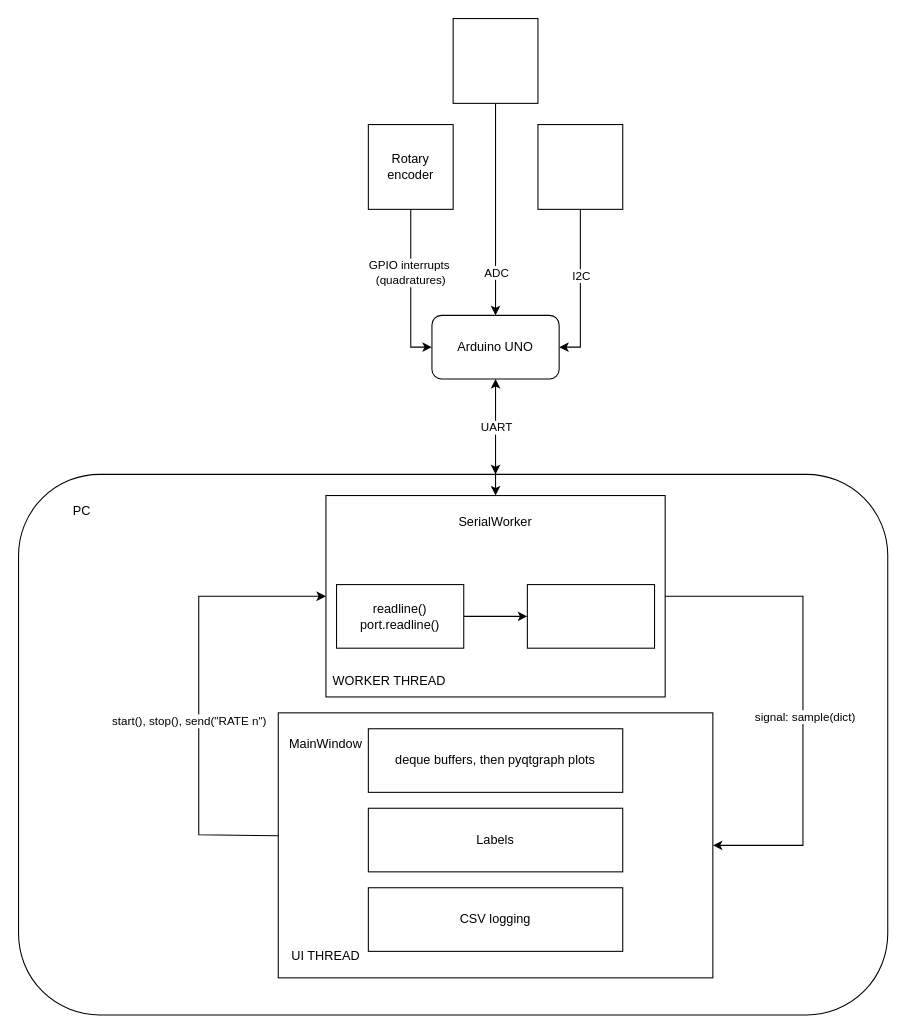
Some shapes in this 906 by 1034 pixel diagram are drawn without their labels. Here are the shapes that lost their labels. From the top down, the centre of each, then its label:
At (495,60): "Potentiometer".
At (580,166): "BME/BMP280".
At (590,616): "parse_line()".
